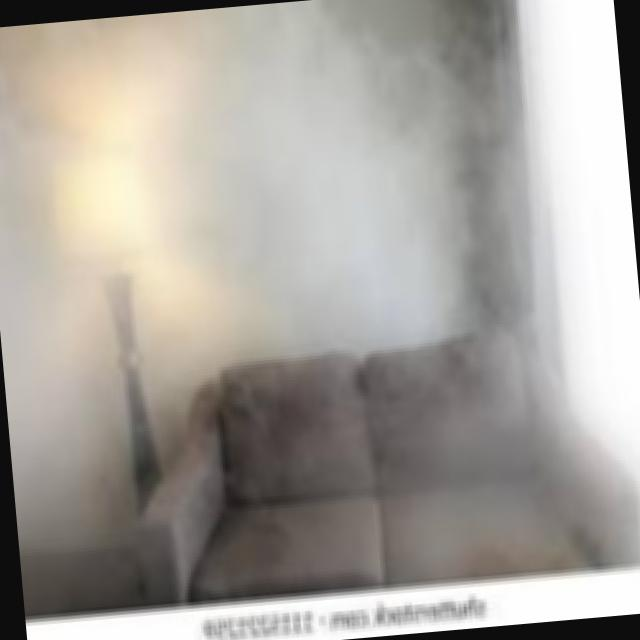smoke: (358, 0, 640, 535)
